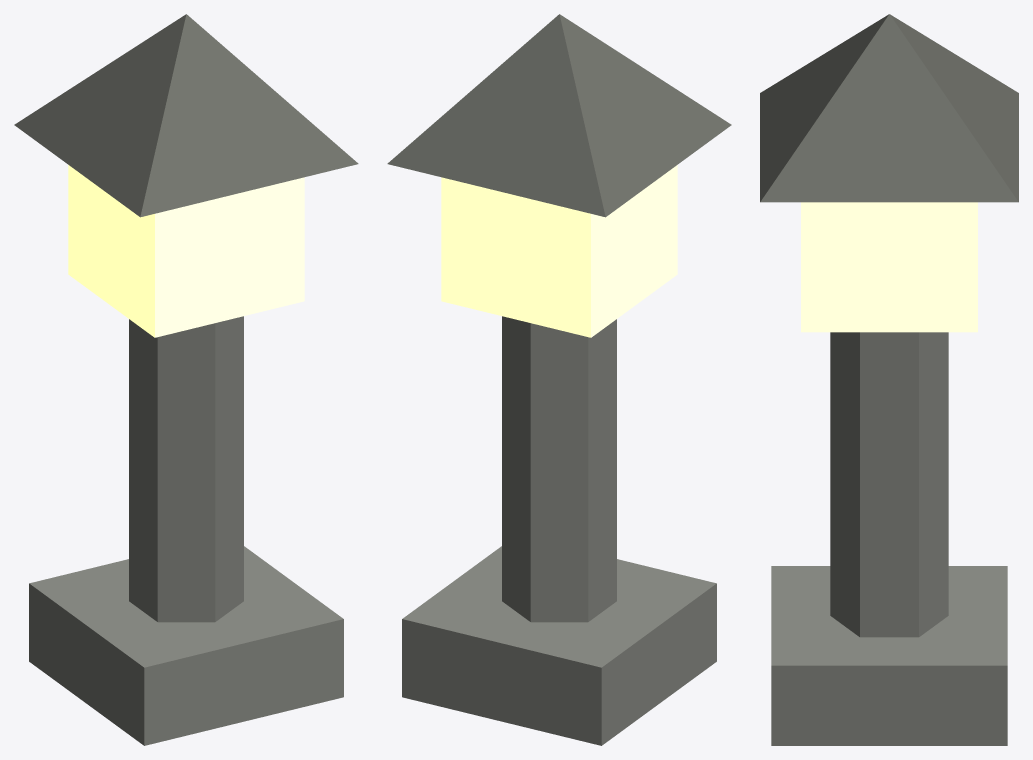
Rendered from stone_lantern.glb.
3 renders of one model, left to right at view 1: azimuth 30°, elevation 25°; view 2: azimuth 150°, elevation 25°; view 3: azimuth 270°, elevation 25°, orthographic. The views are drawn at different scales.
Visible parts, largest first — view 1: stone_lantern; view 2: stone_lantern; view 3: stone_lantern.
Boxes of the visible parts, left/top/right/bottom form: stone_lantern: left=14, top=14, right=358, bottom=745; stone_lantern: left=387, top=14, right=731, bottom=745; stone_lantern: left=760, top=14, right=1018, bottom=745.
Size of the model in its own units: 0.8768 by 2.55 by 0.8768.
